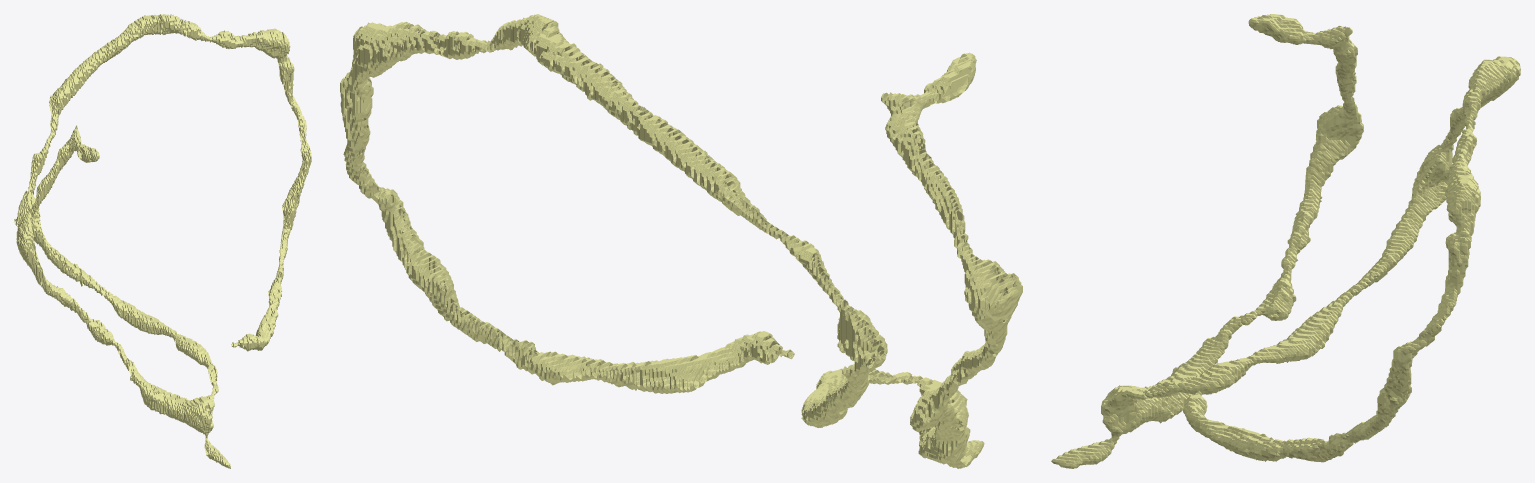
The model's file is SVV_RIAL.gltf.
The picture shows the model from 3 angles, left to right: view 1: azimuth 30°, elevation 25°; view 2: azimuth 150°, elevation 25°; view 3: azimuth 270°, elevation 25°; orthographic projection. The views are drawn at different scales.
Visible parts, largest first — view 1: RIAL; view 2: RIAL; view 3: RIAL.
Part boxes in pixels (bbox=[...]): RIAL: bbox=[14, 14, 311, 468]; RIAL: bbox=[340, 14, 1022, 468]; RIAL: bbox=[1051, 14, 1520, 468].
Bounding box in the file's own units: 133694 × 127293 × 117039.
